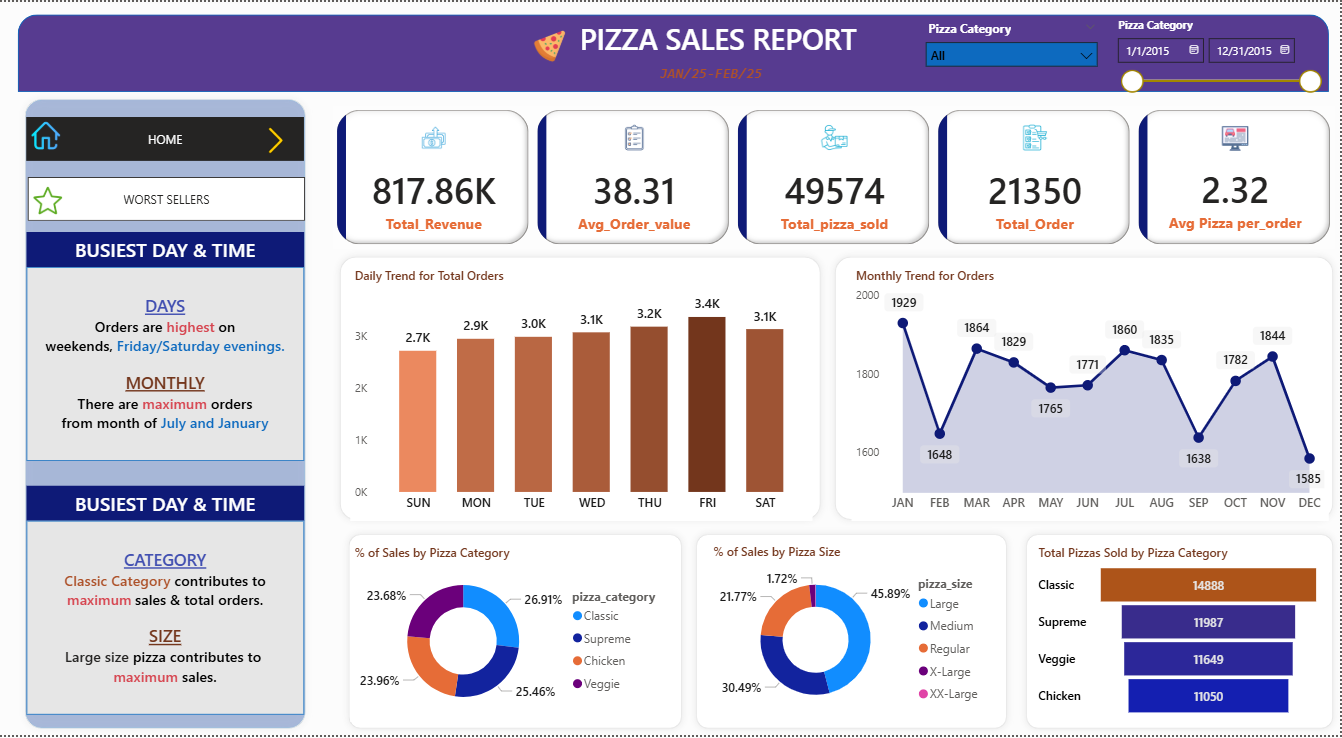

This screenshot's page, from the dashboard's own definition file:
{"tool":"powerbi","page":{"name":"HOME","canvas":[1500,820],"ordinal":0},"visuals":[{"type":"cardVisual","fields":{"Data":["public pizza_sales.Total_Revenue","public pizza_sales.Avg_Order_value","public pizza_sales.Total_pizza_sold","public pizza_sales.Total_Order","public pizza_sales.Avg Pizza per_order"]},"box":[373.1,116,1120.7,160.7],"z":0},{"type":"shape","box":[21,14,1465.9,86.6],"z":1000},{"type":"textbox","box":[644.2,14,452.8,69.9],"z":2000},{"type":"textbox","box":[733.6,65.7,155.1,34.9],"z":3000},{"type":"image","box":[557.6,26.6,116,46.1],"z":4000},{"type":"shape","box":[373.1,276.7,553.4,310.2],"z":5000},{"type":"columnChart","title":"Daily Trend for Total Orders","fields":{"Y":["public pizza_sales.Total_Order"],"Category":["public pizza_sales.Day_name"]},"box":[392.7,296.3,517,283.7],"z":6000},{"type":"shape","box":[926.5,276.7,572.9,310.2],"z":7000},{"type":"areaChart","title":"Monthly Trend for Orders","fields":{"Category":["public pizza_sales.Month"],"Y":["public pizza_sales.Total_Order"]},"box":[953,296.3,533.8,283.7],"z":8000},{"type":"shape","box":[382.9,586.9,388.5,233.4],"z":9000},{"type":"shape","box":[771.4,586.9,363.3,233.4],"z":10000},{"type":"shape","box":[1140.3,586.9,359.1,233.4],"z":11000},{"type":"donutChart","title":"% of Sales by Pizza Category","fields":{"Category":["public pizza_sales.pizza_category"],"Y":["public pizza_sales.Total_Revenue"]},"box":[392.7,606.5,361.9,198.4],"z":12000},{"type":"donutChart","title":"% of Sales by Pizza Size","fields":{"Category":["public pizza_sales.pizza_size"],"Y":["public pizza_sales.Total_Revenue"]},"box":[793.7,605.1,318.6,198.4],"z":13000},{"type":"funnel","title":"Total Pizzas Sold by Pizza Category","fields":{"Category":["public pizza_sales.pizza_category"],"Y":["public pizza_sales.Total_pizza_sold"]},"box":[1157.1,606.5,325.6,197],"z":14000},{"type":"shape","box":[21,100.6,329.8,719.7],"z":15000},{"type":"textbox","box":[30.7,257.1,310.2,39.1],"z":16000},{"type":"textbox","box":[30.7,296.3,310.2,216.6],"z":17000},{"type":"textbox","box":[30.7,540.8,310.2,39.1],"z":18000},{"type":"textbox","box":[30.7,579.9,310.2,216.6],"z":19000},{"type":"slicer","fields":{"Values":["public pizza_sales.pizza_category"]},"box":[1025.7,15.4,212.4,57.3],"z":20000},{"type":"slicer","fields":{"Values":["public pizza_sales.order_date"]},"box":[1238.1,12.6,248.7,89.4],"z":21000},{"type":"pageNavigator","box":[30.6,128.6,310.4,49.9],"z":22000},{"type":"pageNavigator","box":[32.2,196.2,310.4,49.9],"z":22001},{"type":"image","box":[276.6,135.1,65.9,38.6],"z":22002},{"type":"image","box":[30.6,128.6,43.4,41.8],"z":22003},{"type":"image","box":[32.2,201,45,41.8],"z":22004}]}

Visuals, with their boxes on the page's 1500x820 design canvas (x1, y1, x2, y2). These are canvas units, not pixel positions in the 1342x738 screenshot, which may show the page scaled, cropped or inside an application window:
cardVisual - public pizza_sales.Total_Revenue x public pizza_sales.Avg_Order_value: [373, 116, 1494, 277]
shape: [21, 14, 1487, 101]
textbox: [644, 14, 1097, 84]
textbox: [734, 66, 889, 101]
image: [558, 27, 674, 73]
shape: [373, 277, 926, 587]
"Daily Trend for Total Orders" columnChart: [393, 296, 910, 580]
shape: [926, 277, 1499, 587]
"Monthly Trend for Orders" areaChart: [953, 296, 1487, 580]
shape: [383, 587, 771, 820]
shape: [771, 587, 1135, 820]
shape: [1140, 587, 1499, 820]
"% of Sales by Pizza Category" donutChart: [393, 606, 755, 805]
"% of Sales by Pizza Size" donutChart: [794, 605, 1112, 804]
"Total Pizzas Sold by Pizza Category" funnel: [1157, 606, 1483, 804]
shape: [21, 101, 351, 820]
textbox: [31, 257, 341, 296]
textbox: [31, 296, 341, 513]
textbox: [31, 541, 341, 580]
textbox: [31, 580, 341, 796]
slicer - public pizza_sales.pizza_category: [1026, 15, 1238, 73]
slicer - public pizza_sales.order_date: [1238, 13, 1487, 102]
pageNavigator: [31, 129, 341, 178]
pageNavigator: [32, 196, 343, 246]
image: [277, 135, 342, 174]
image: [31, 129, 74, 170]
image: [32, 201, 77, 243]
